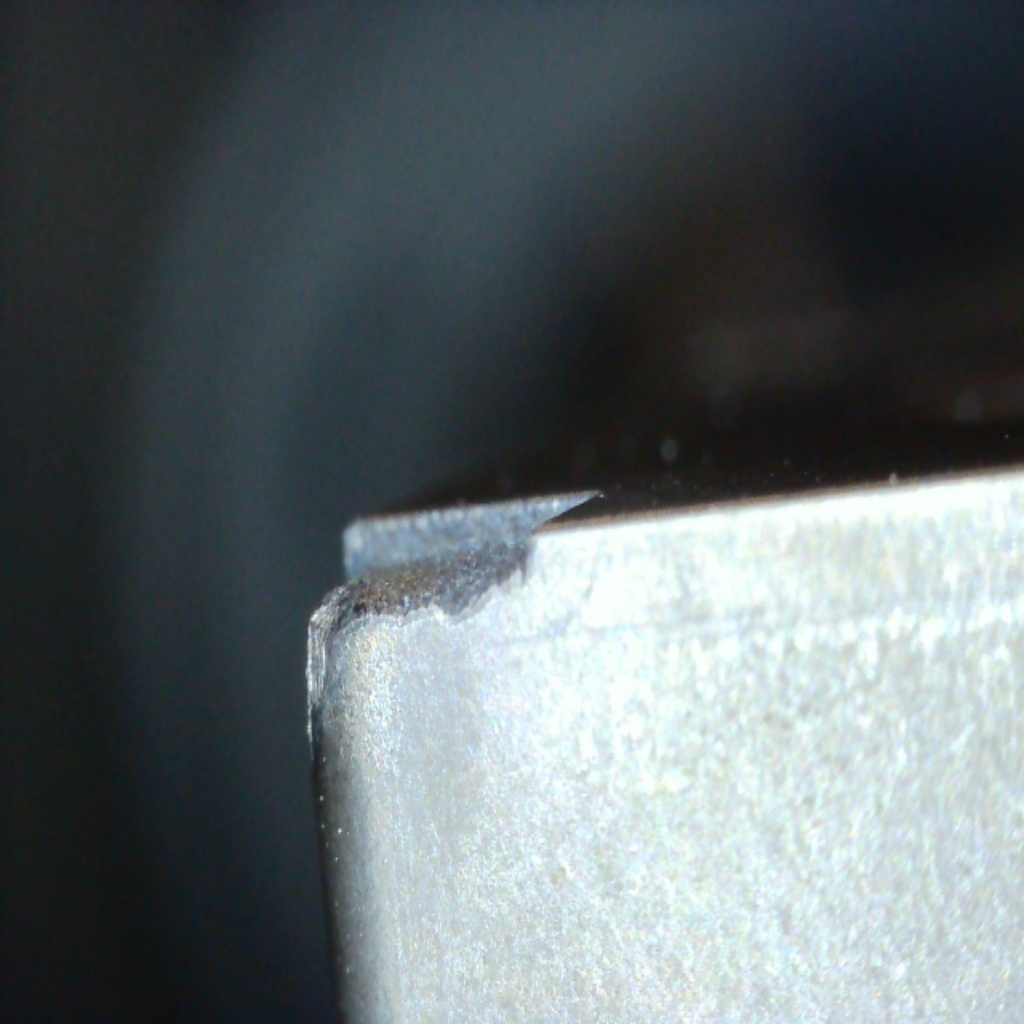flank_wear: (307, 604, 339, 739)
